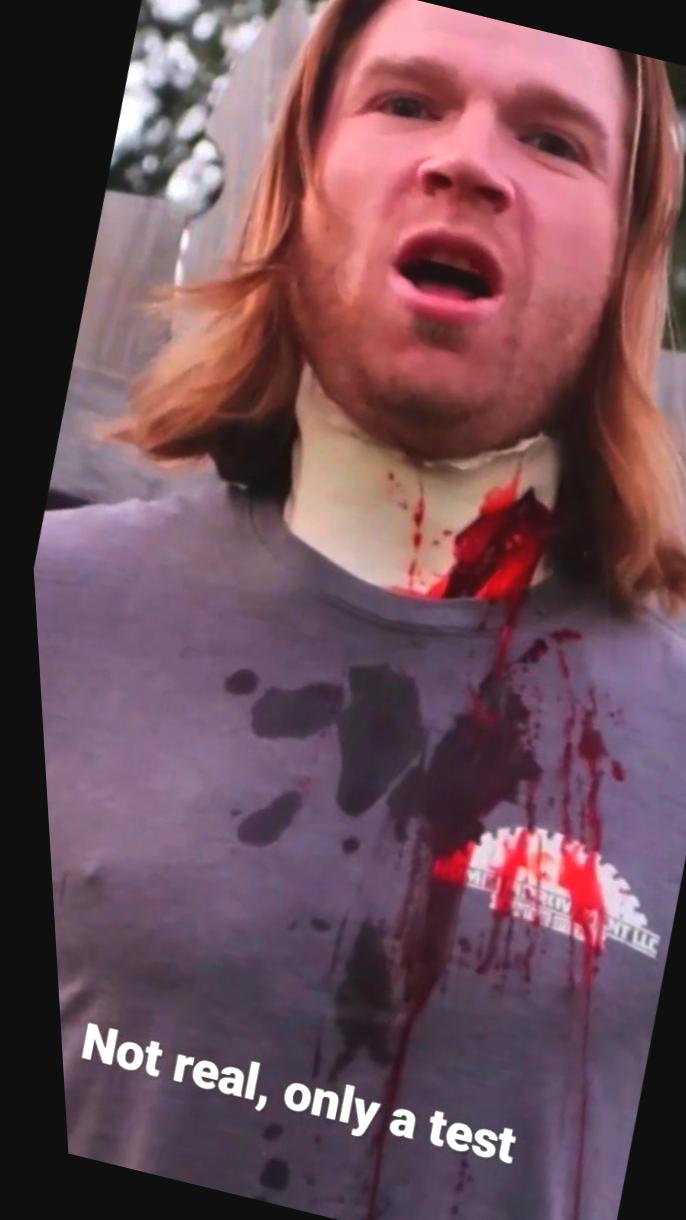Fire: (347, 451, 616, 1220)
